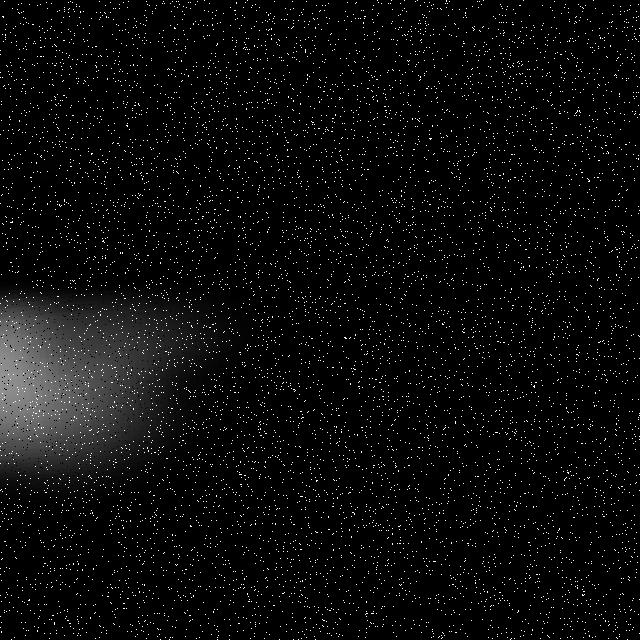person: (1, 211, 421, 563), (1, 20, 375, 231)
